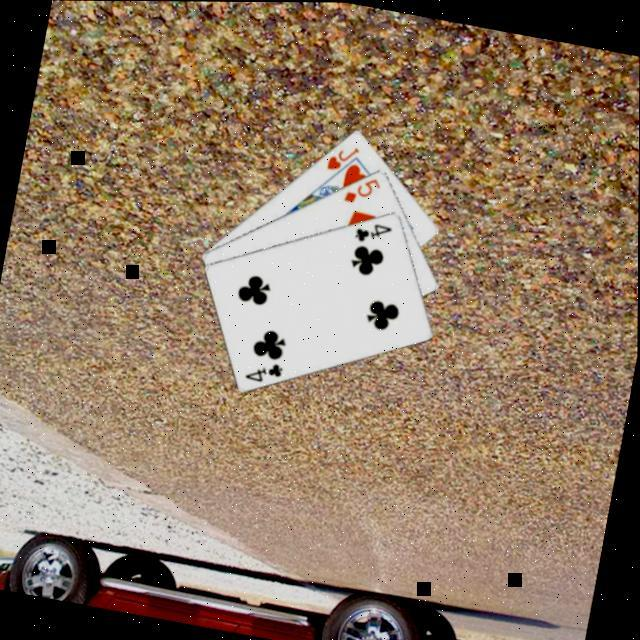4C: (243, 355, 289, 389), (352, 217, 396, 251)
5D: (342, 171, 386, 211)
JH: (324, 140, 364, 178)
